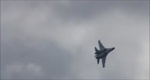maybay_muctieu: (94, 39, 114, 67)
